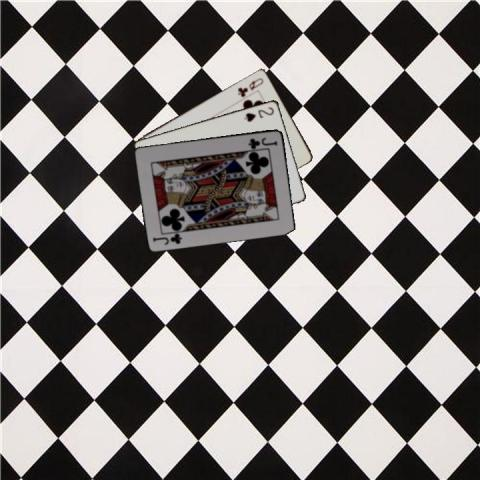2s: (241, 103, 275, 123)
Jc: (150, 230, 183, 246), (245, 134, 279, 149)
Qc: (235, 75, 265, 98)
